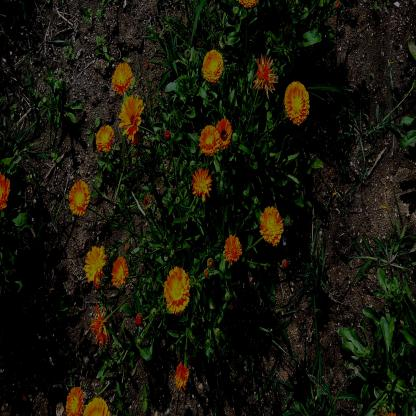marigold: (166, 267, 190, 311), (285, 84, 310, 124), (120, 96, 144, 137), (261, 206, 283, 242), (85, 245, 104, 284), (256, 56, 274, 94), (68, 180, 88, 214), (202, 50, 223, 82), (112, 61, 134, 90), (199, 123, 219, 154), (192, 168, 212, 198), (224, 234, 243, 262), (112, 254, 127, 286), (216, 116, 231, 147), (174, 361, 190, 388), (66, 388, 82, 414), (96, 126, 113, 150)
